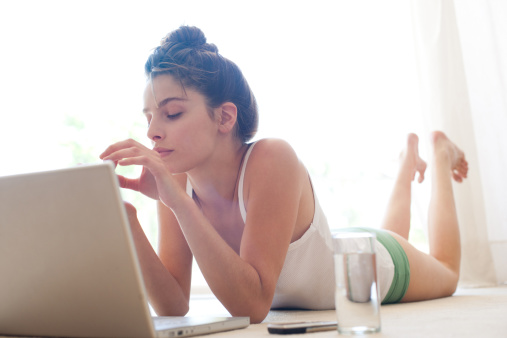deitado: (88, 42, 345, 328)
